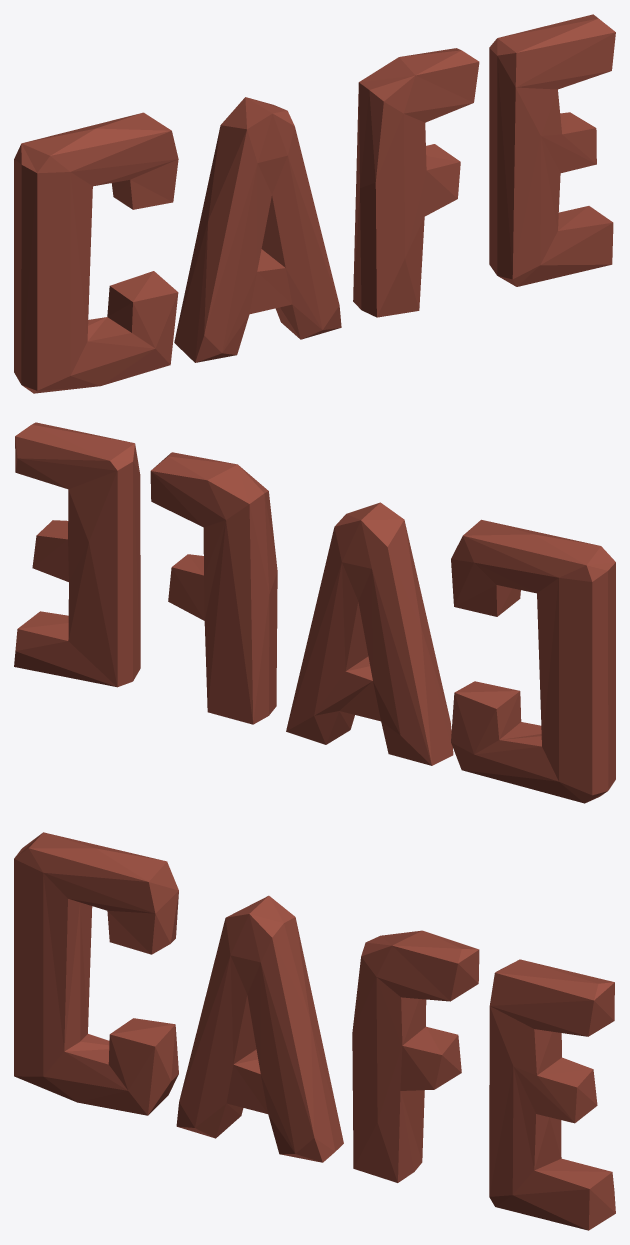
Rendered from SM_Prop_Sign_Cafe_01.fbx.
3 renders of one model, top to bottom at view 1: azimuth 30°, elevation 25°; view 2: azimuth 150°, elevation 25°; view 3: azimuth 330°, elevation 25°, orthographic.
Visible parts, largest first — view 1: SM_Prop_Sign_Cafe_01; view 2: SM_Prop_Sign_Cafe_01; view 3: SM_Prop_Sign_Cafe_01.
Part boxes in pixels (bbox=[...]): SM_Prop_Sign_Cafe_01: bbox=[14, 14, 615, 393]; SM_Prop_Sign_Cafe_01: bbox=[14, 422, 615, 803]; SM_Prop_Sign_Cafe_01: bbox=[14, 832, 615, 1230].
Bounding box in the file's own units: 135 × 55.32 × 10.99.
